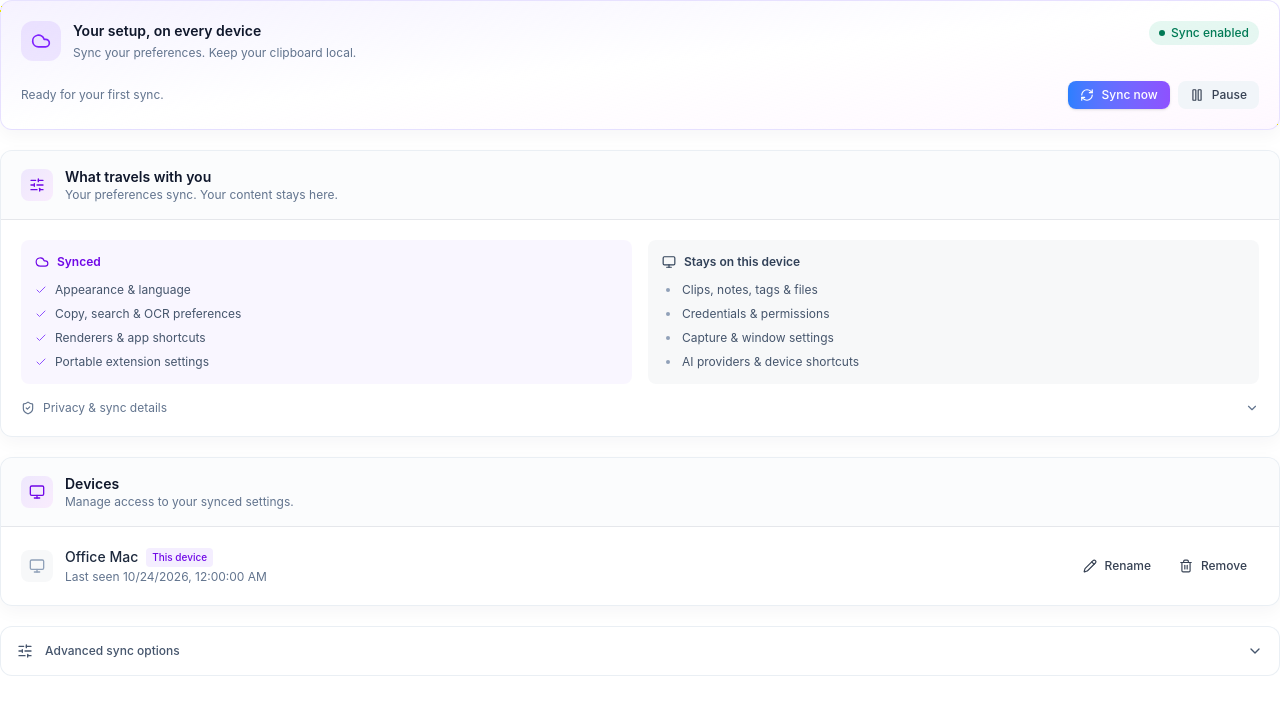
it: ConfigurationSync › retains failed removals for retry and stops sync when removing this computer
Click the button with aria-label "Remove Office Mac".
click(1213, 566)  # box [1167,552,1259,580]
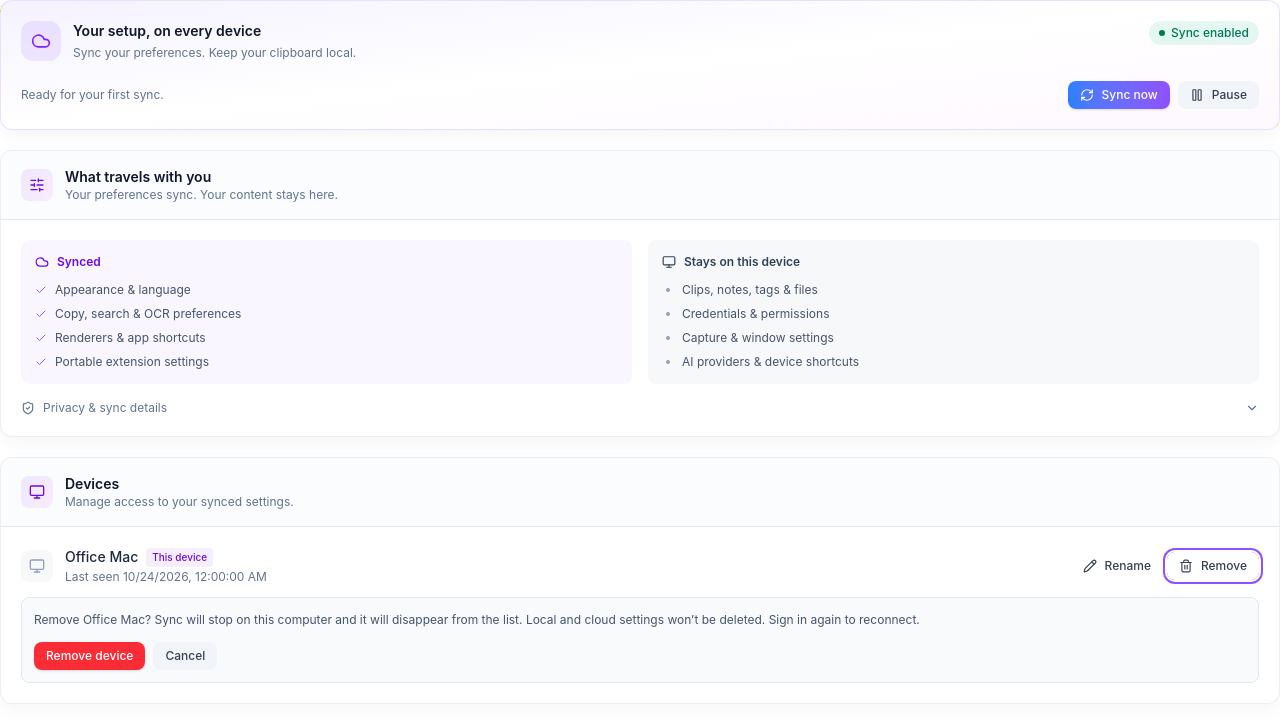
Click the button "Remove device".
click(90, 656)  # box [34,642,145,670]
(page scrolled)
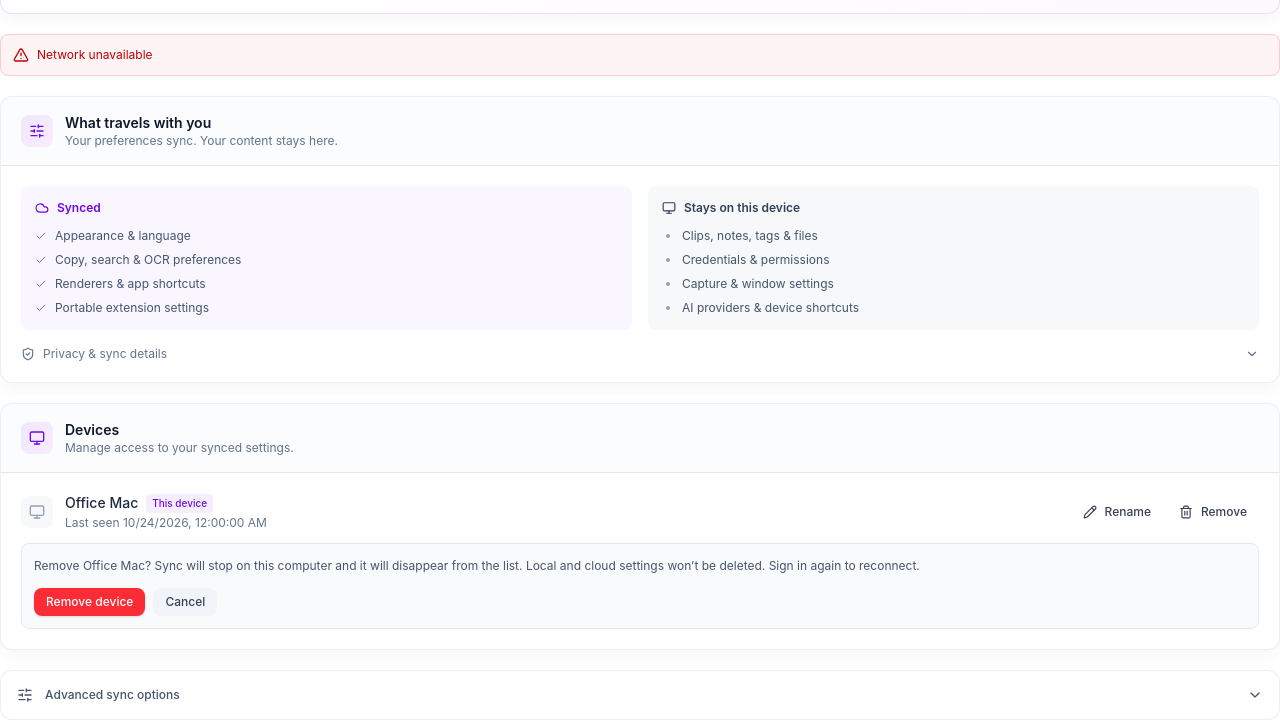
Expected: the text "Office Mac" is shown, [65,493,138,513]
Result: the text "Network unavailable" is shown at [37,47,153,63]
Click the button "Remove device".
click(90, 602)  # box [34,588,145,616]
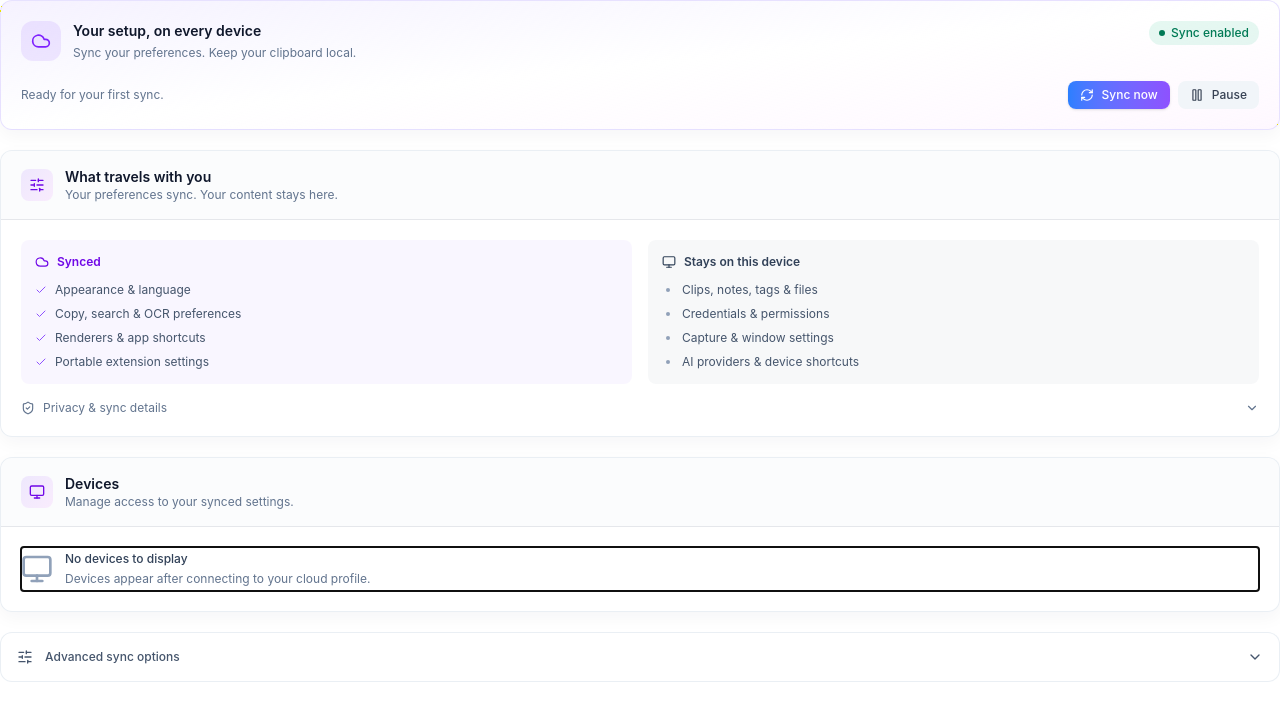
Result: the text "Office Mac" is gone
